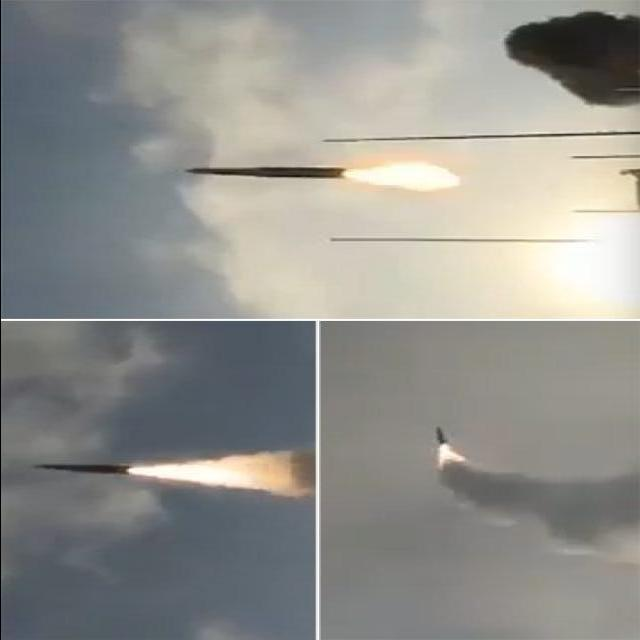missile: (178, 159, 348, 188), (22, 458, 141, 478), (430, 425, 448, 447)
